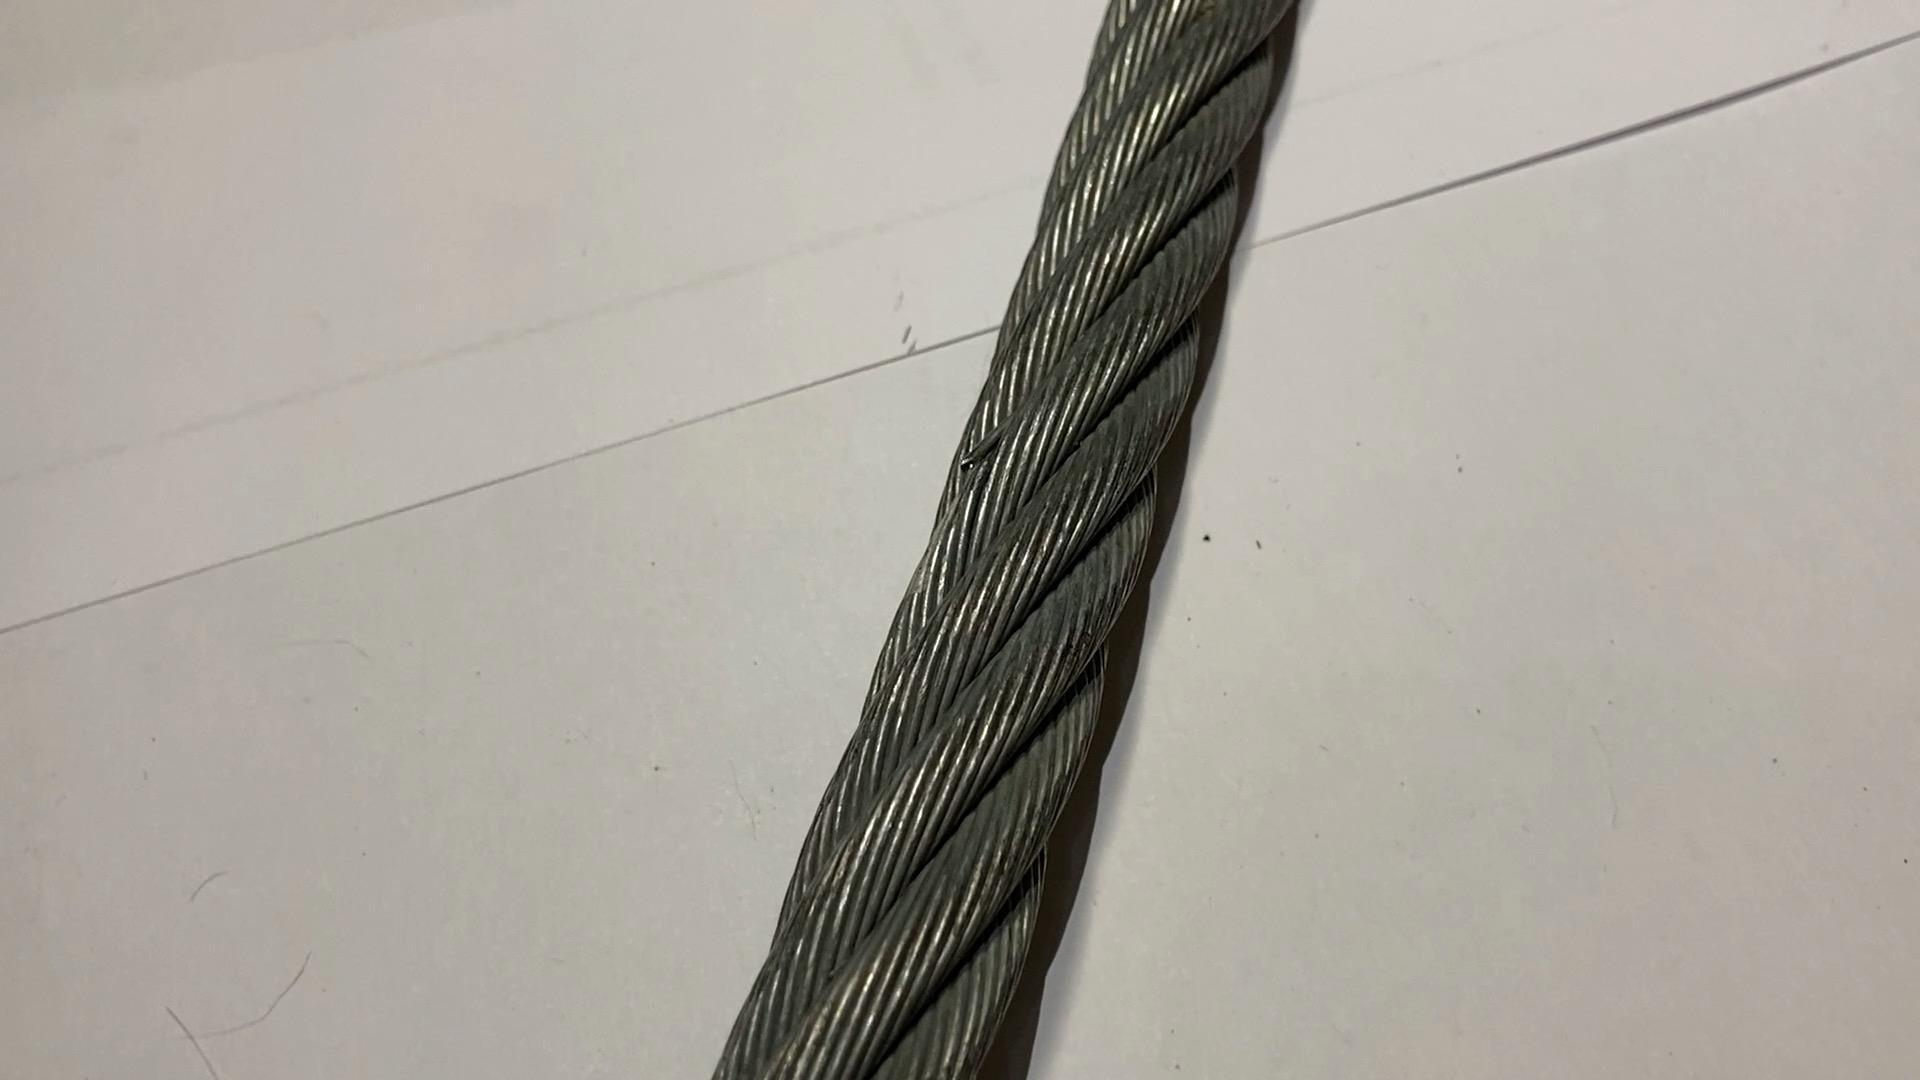break: (947, 413, 1015, 472)
